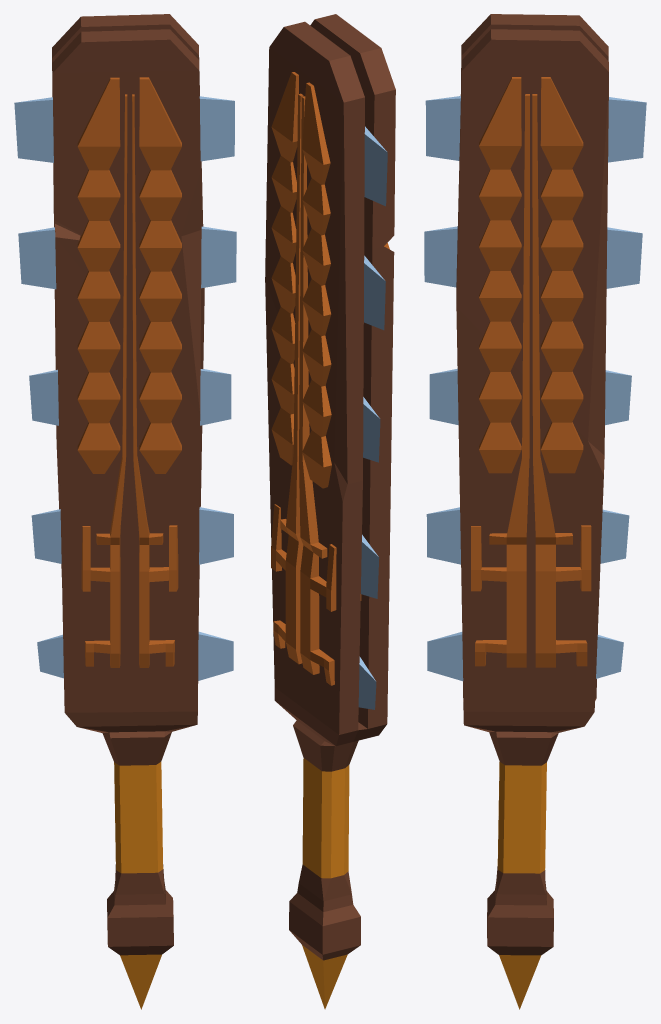
The model's file is Sword Aztec_1.fbx.
3 views of the same model, side by side, from view 1: azimuth 90°, elevation 25°; view 2: azimuth 210°, elevation 25°; view 3: azimuth 270°, elevation 25° (orthographic).
Visible parts, largest first — view 1: Sword Aztec_1; view 2: Sword Aztec_1; view 3: Sword Aztec_1.
Boxes of the visible parts, x1,y1,x2,y2 form: Sword Aztec_1: [14, 14, 236, 1009]; Sword Aztec_1: [265, 14, 395, 1009]; Sword Aztec_1: [424, 14, 646, 1009].
Bounding box in the file's own units: 0.0671 × 0.944 × 0.1935.
